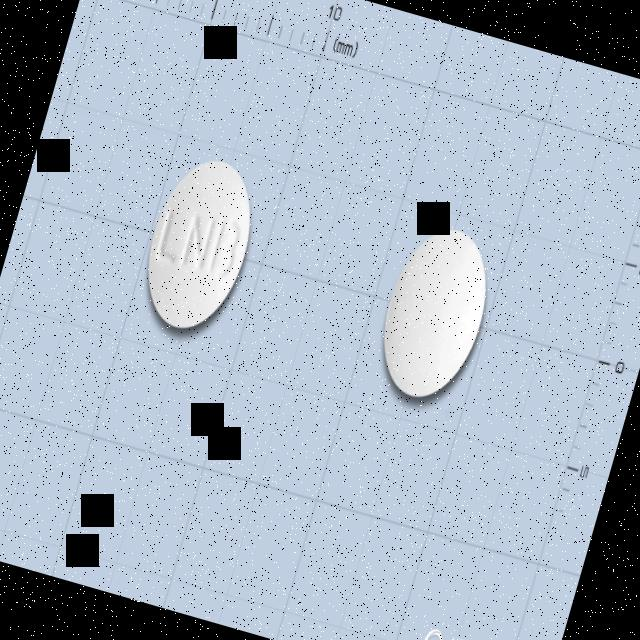Lenovo: (130, 147, 270, 340)
